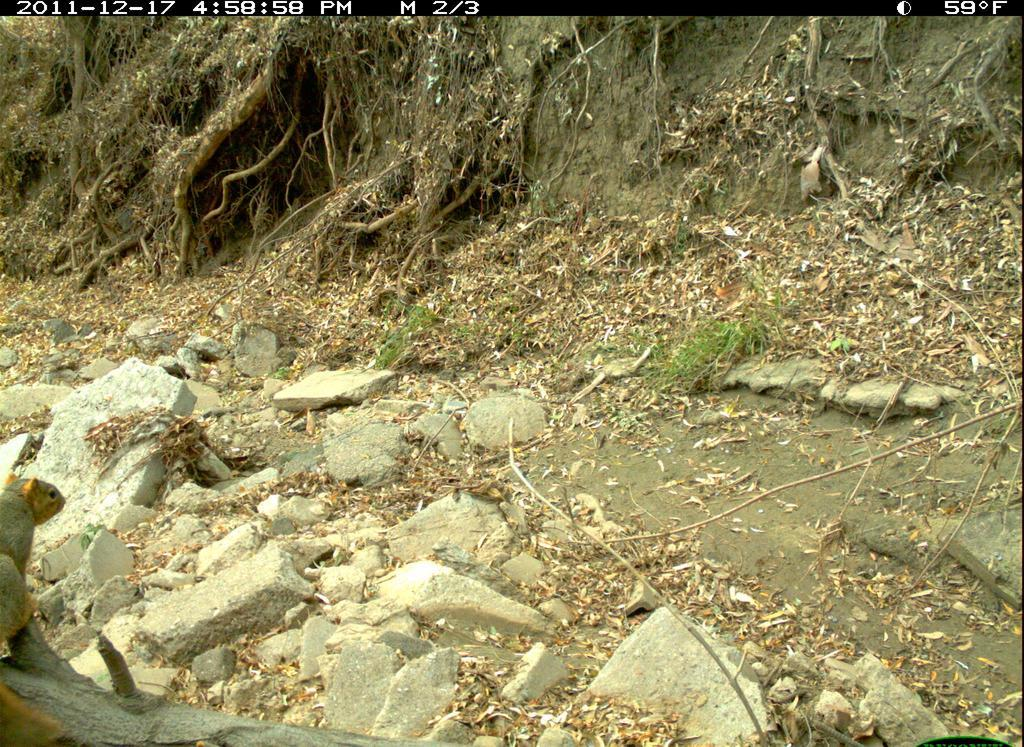squirrel: (3, 452, 72, 684)
